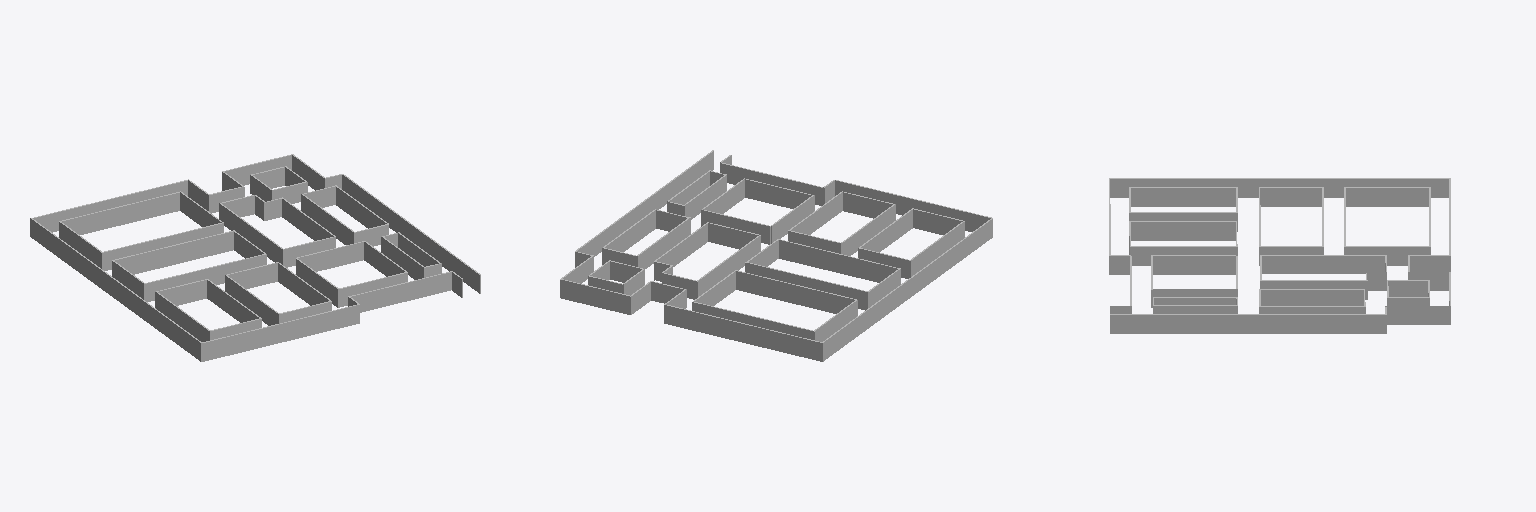
Rendered from laberintoNov.obj.
3 views of the same model, side by side, from view 1: azimuth 30°, elevation 25°; view 2: azimuth 150°, elevation 25°; view 3: azimuth 270°, elevation 25° (orthographic).
Parts seen in each view (by area): view 1: Cube.000_Cube.003; view 2: Cube.000_Cube.003; view 3: Cube.000_Cube.003.
Boxes of the visible parts, x1=… form: Cube.000_Cube.003: x1=30, y1=154, x2=480, y2=361; Cube.000_Cube.003: x1=560, y1=150, x2=992, y2=361; Cube.000_Cube.003: x1=1109, y1=178, x2=1450, y2=333.
Size of the model in its own units: 16.05 by 1.04 by 17.